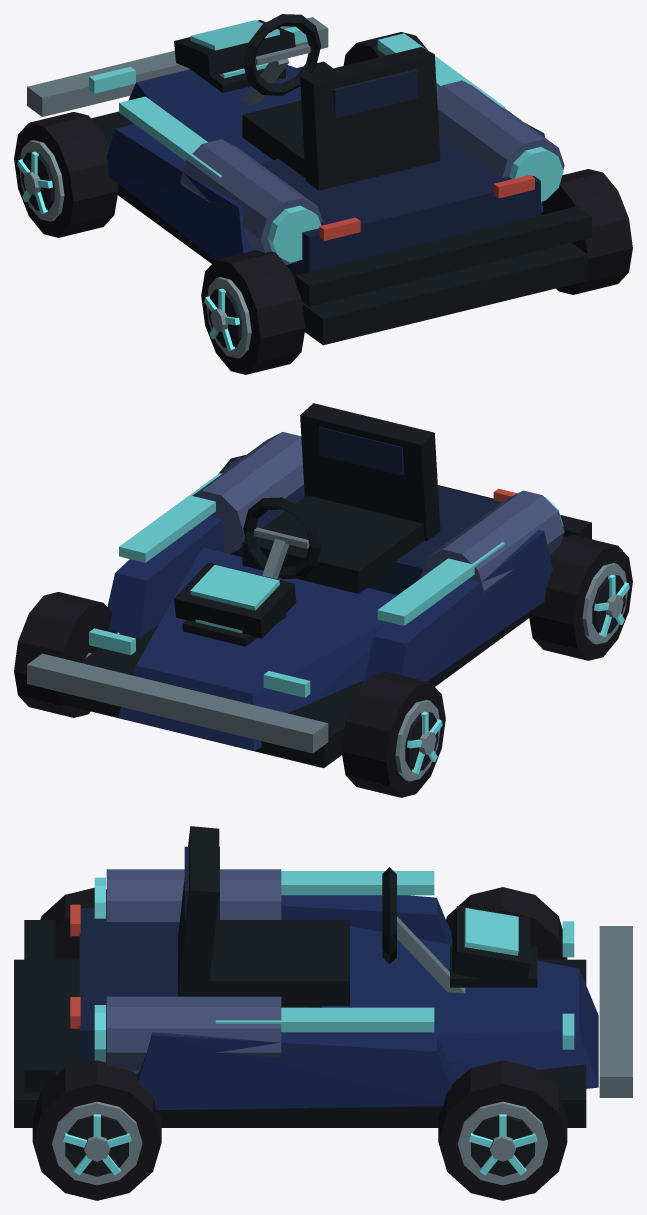
The model's file is kart.glb.
The picture shows the model from 3 angles, top to bottom: view 1: azimuth 30°, elevation 25°; view 2: azimuth 150°, elevation 25°; view 3: azimuth 270°, elevation 25°; orthographic projection. The views are drawn at different scales.
Visible parts, largest first — view 1: chassis, wheel-rear-left, wheel-front-left, wheel-rear-right, wheel-front-right; view 2: chassis, wheel-front-left, wheel-rear-left, wheel-front-right; view 3: chassis, wheel-front-right, wheel-rear-right, wheel-front-left, wheel-rear-left.
Boxes of the visible parts, <box> form: chassis: <box>27,14,591,345</box>; wheel-rear-left: <box>201,250,305,374</box>; wheel-front-left: <box>14,112,118,237</box>; wheel-rear-right: <box>541,169,632,294</box>; wheel-front-right: <box>343,32,427,65</box>; chassis: <box>27,403,591,768</box>; wheel-front-left: <box>341,672,445,797</box>; wheel-rear-left: <box>528,535,632,660</box>; wheel-front-right: <box>14,592,117,717</box>; chassis: <box>14,826,632,1127</box>; wheel-front-right: <box>438,1060,567,1200</box>; wheel-rear-right: <box>32,1060,161,1200</box>; wheel-front-left: <box>446,887,567,959</box>; wheel-rear-left: <box>40,887,106,959</box>.
Size of the model in its own units: 2.41 by 1.3 by 2.98.
